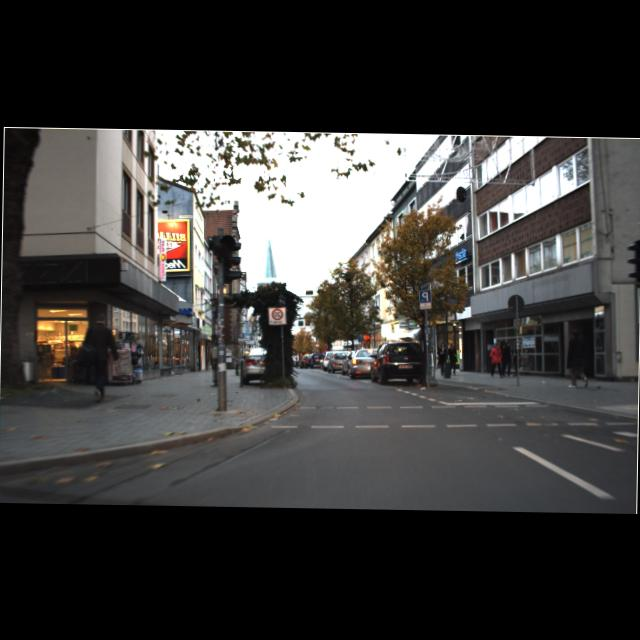prohibitory: (271, 308, 283, 319)
